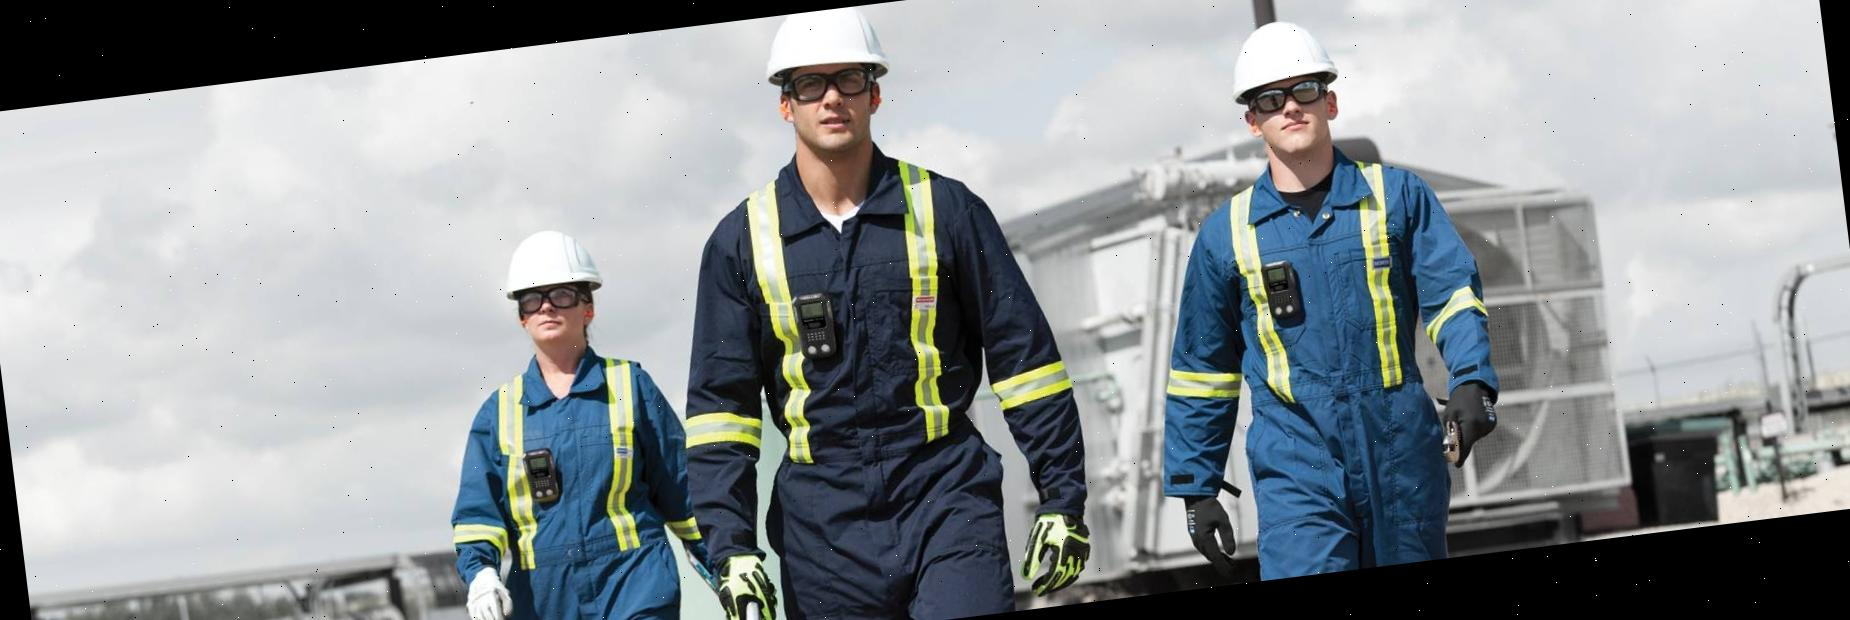helmet: (755, 2, 892, 93), (1224, 13, 1346, 110), (494, 220, 608, 305)
wear: (722, 163, 996, 482), (1208, 165, 1435, 415), (473, 355, 676, 593)
